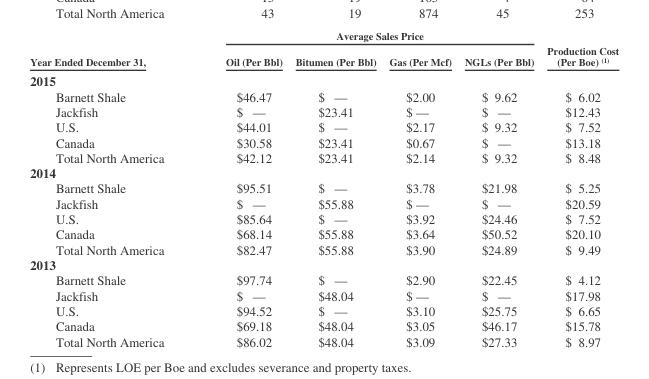table: (29, 29, 618, 348)
table column: (29, 29, 194, 348), (194, 29, 288, 348), (288, 29, 382, 348), (457, 29, 539, 348), (539, 29, 618, 348), (382, 29, 457, 348)
table column header: (29, 29, 618, 70)
table projected row header: (29, 70, 618, 88), (29, 164, 618, 180), (29, 256, 618, 272)
table row: (29, 48, 618, 70), (29, 29, 618, 48), (29, 70, 618, 88), (29, 103, 618, 119), (29, 164, 618, 180), (29, 195, 618, 211), (29, 256, 618, 272), (29, 302, 618, 318), (29, 88, 618, 103), (29, 119, 618, 134), (29, 134, 618, 149), (29, 149, 618, 164), (29, 180, 618, 195), (29, 211, 618, 226), (29, 226, 618, 241), (29, 241, 618, 256), (29, 272, 618, 287), (29, 287, 618, 302), (29, 318, 618, 333), (29, 333, 618, 348)
table spanning cell: (29, 29, 194, 70), (194, 29, 539, 48), (539, 29, 618, 70)
